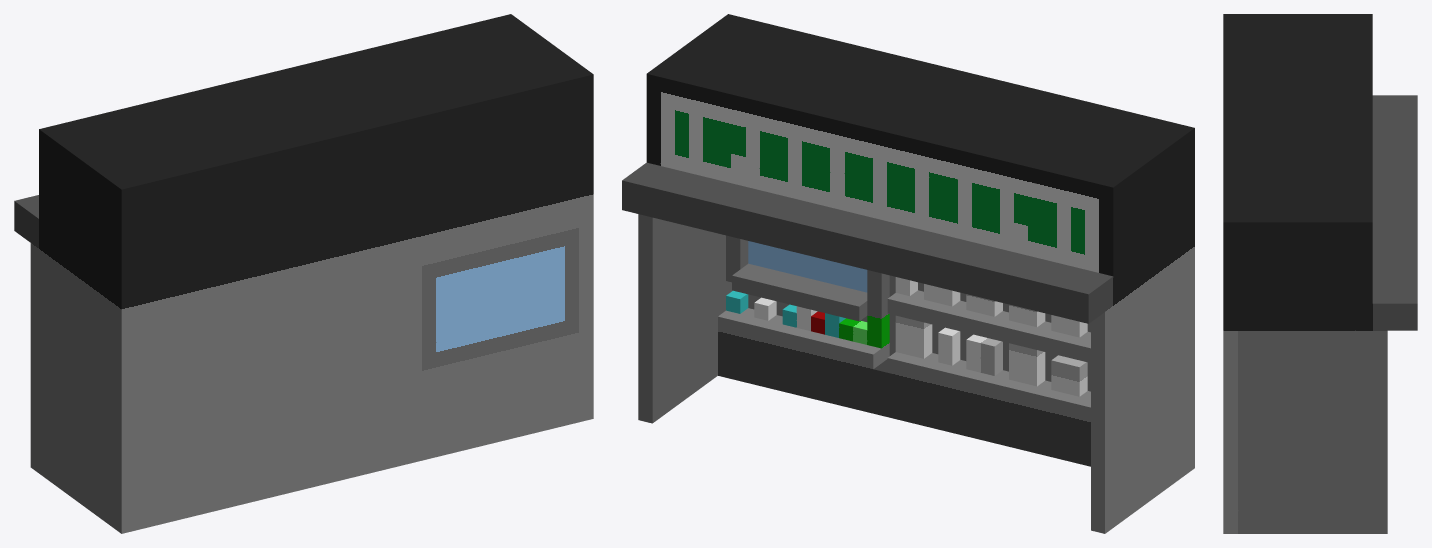
The model's file is obj_store6.dae.
3 views of the same model, side by side, from view 1: azimuth 30°, elevation 25°; view 2: azimuth 150°, elevation 25°; view 3: azimuth 270°, elevation 25° (orthographic). The views are drawn at different scales.
Visible parts, largest first — view 1: obj_store6; view 2: obj_store6; view 3: obj_store6.
Boxes of the visible parts, x1=… form: obj_store6: x1=14, y1=14, x2=593, y2=533; obj_store6: x1=622, y1=14, x2=1194, y2=533; obj_store6: x1=1223, y1=14, x2=1417, y2=533.
Bounding box in the file's own units: 3.3 × 1.3 × 2.3.
Materials: 1 (1 with a texture image).
